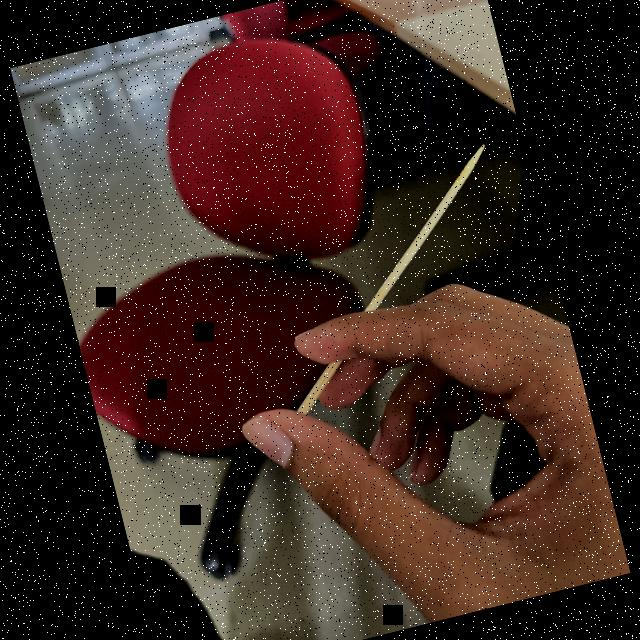stick: (240, 135, 546, 423)
